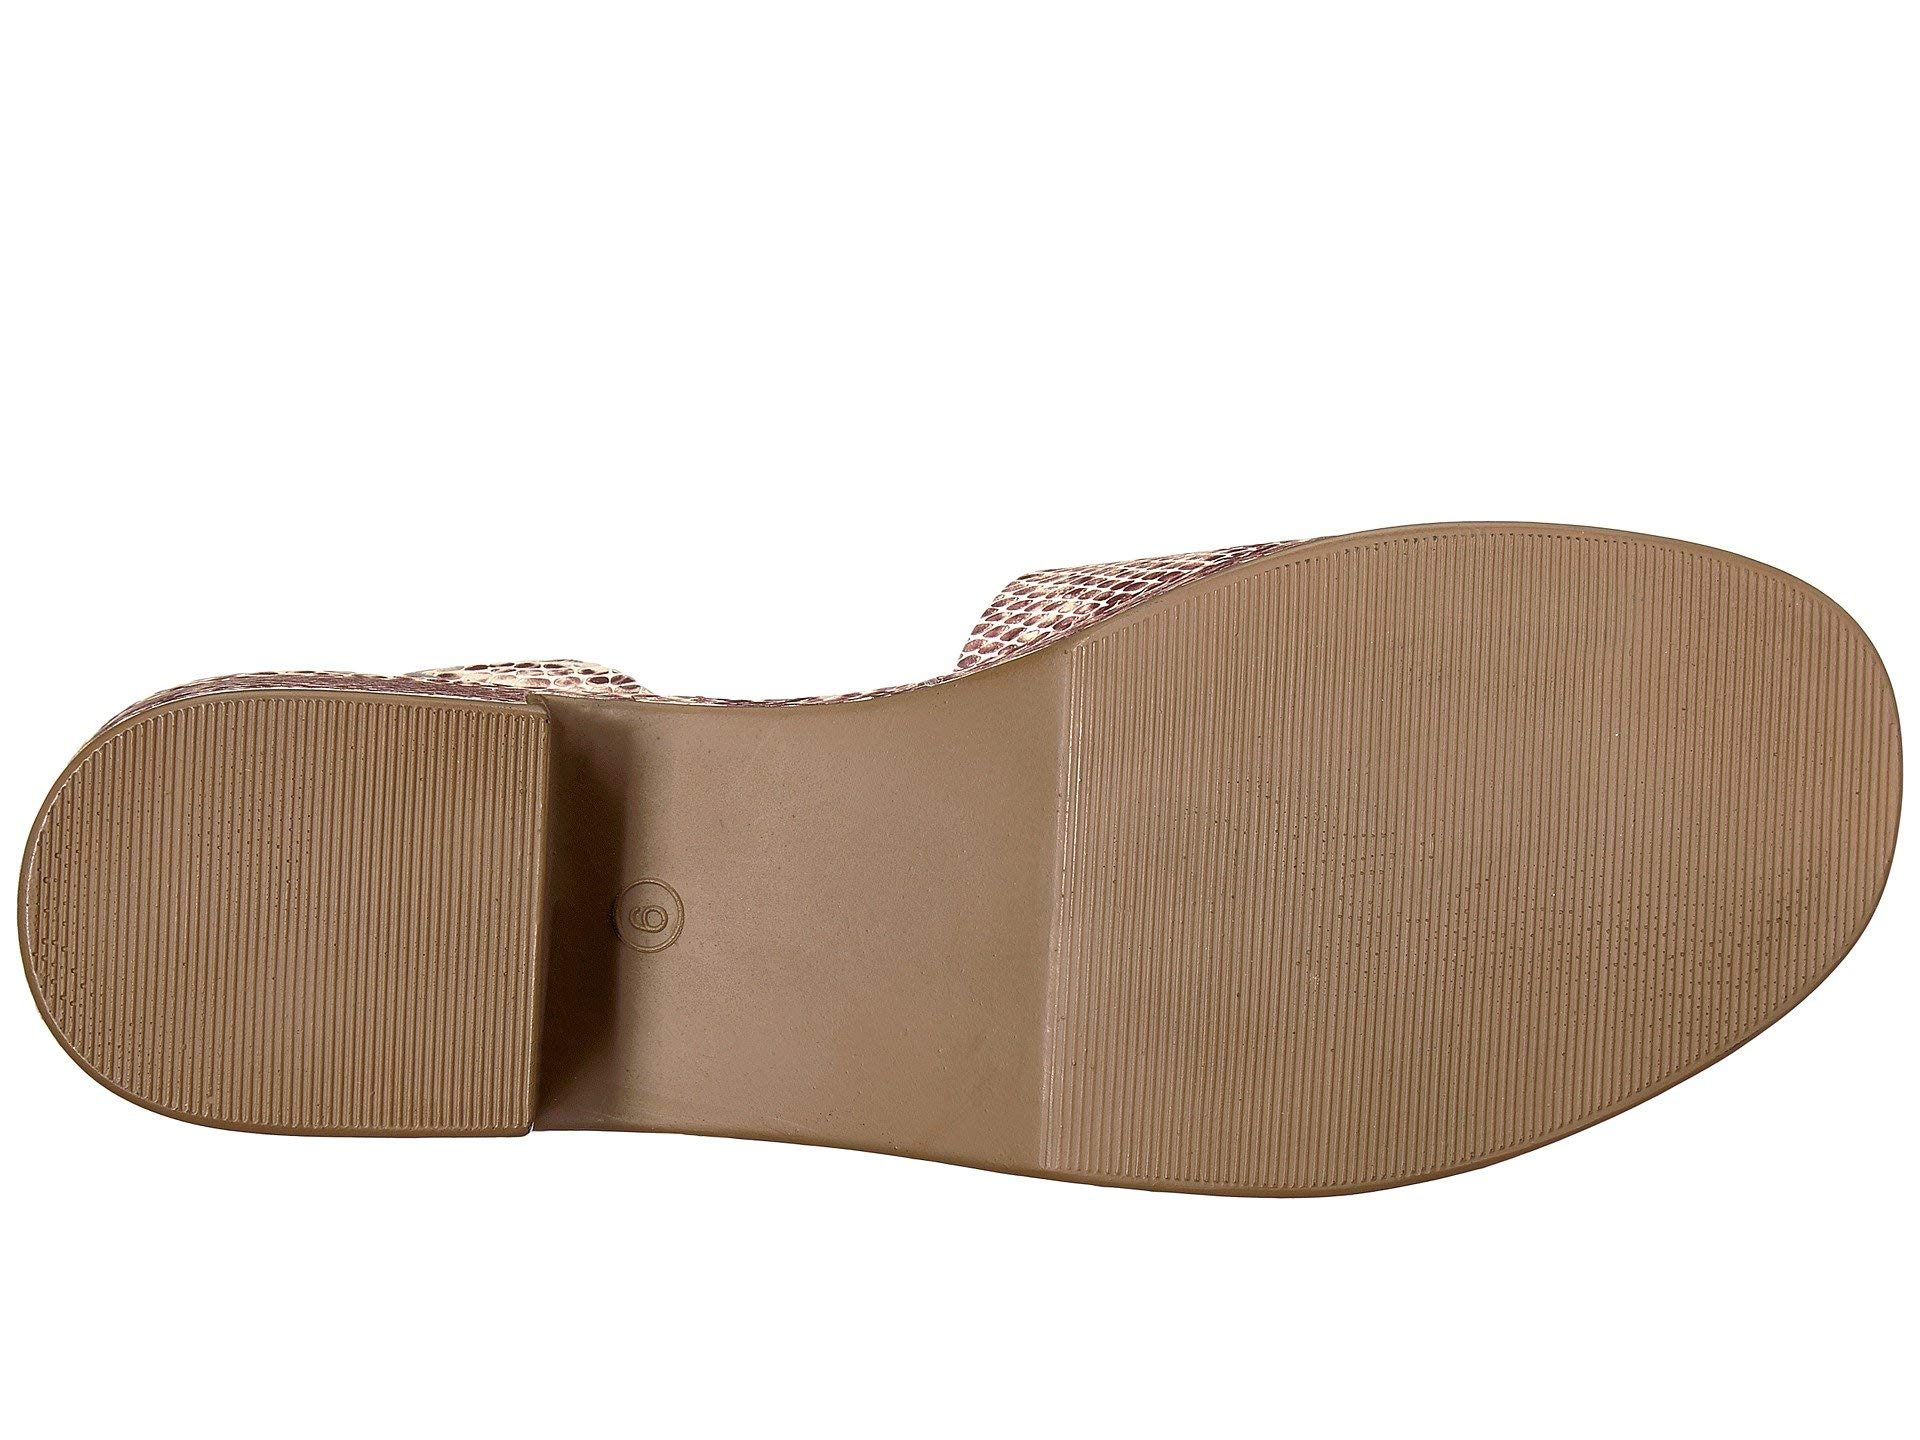line: (1270, 641, 1699, 1050), (180, 781, 460, 1057)
